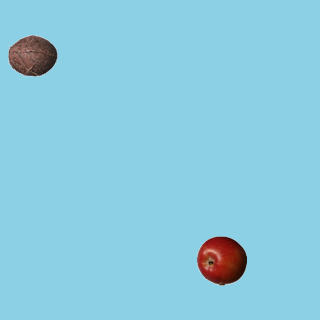Apple Braeburn: (196, 235, 246, 285)
Cocos: (7, 30, 57, 80)
